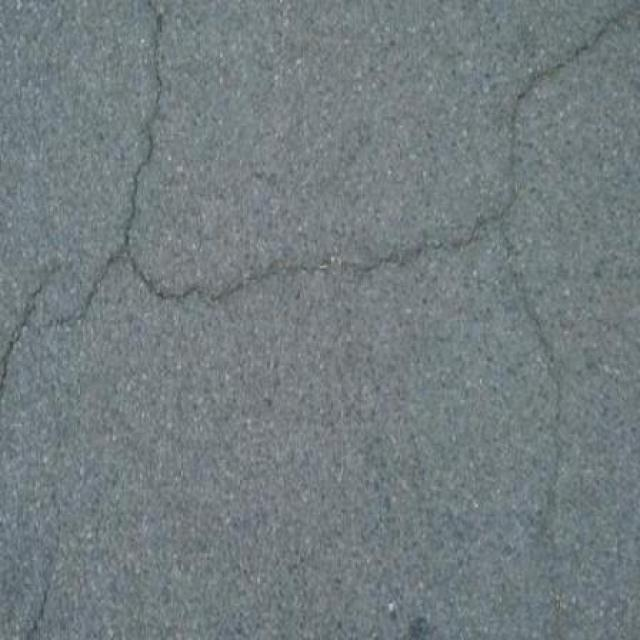Crack: (48, 0, 639, 637), (0, 265, 59, 399), (25, 490, 60, 637)
